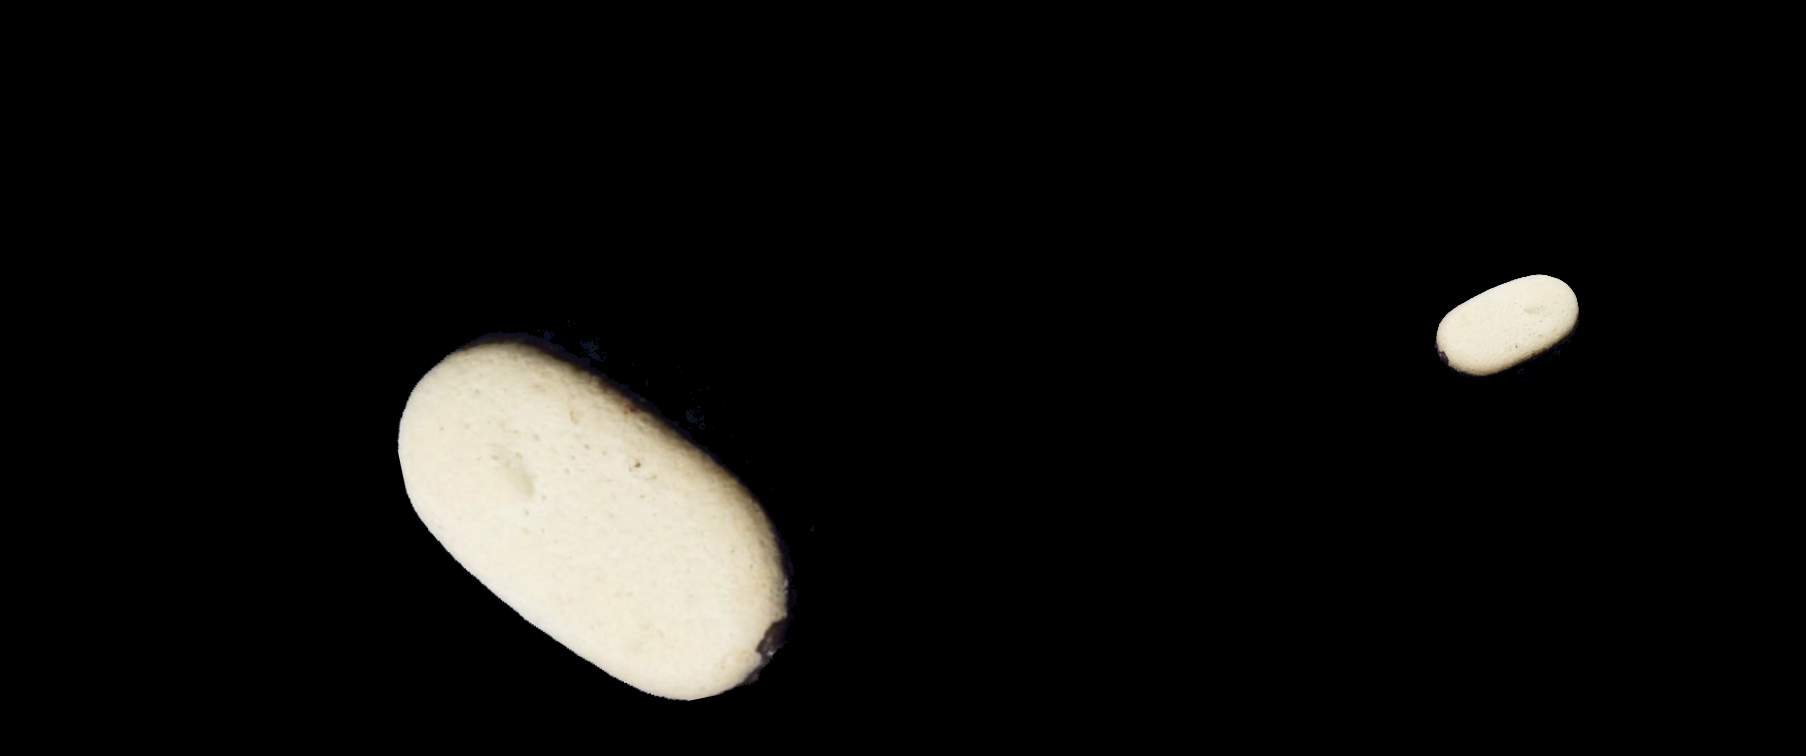test: (375, 271, 845, 749), (1422, 247, 1592, 415)
